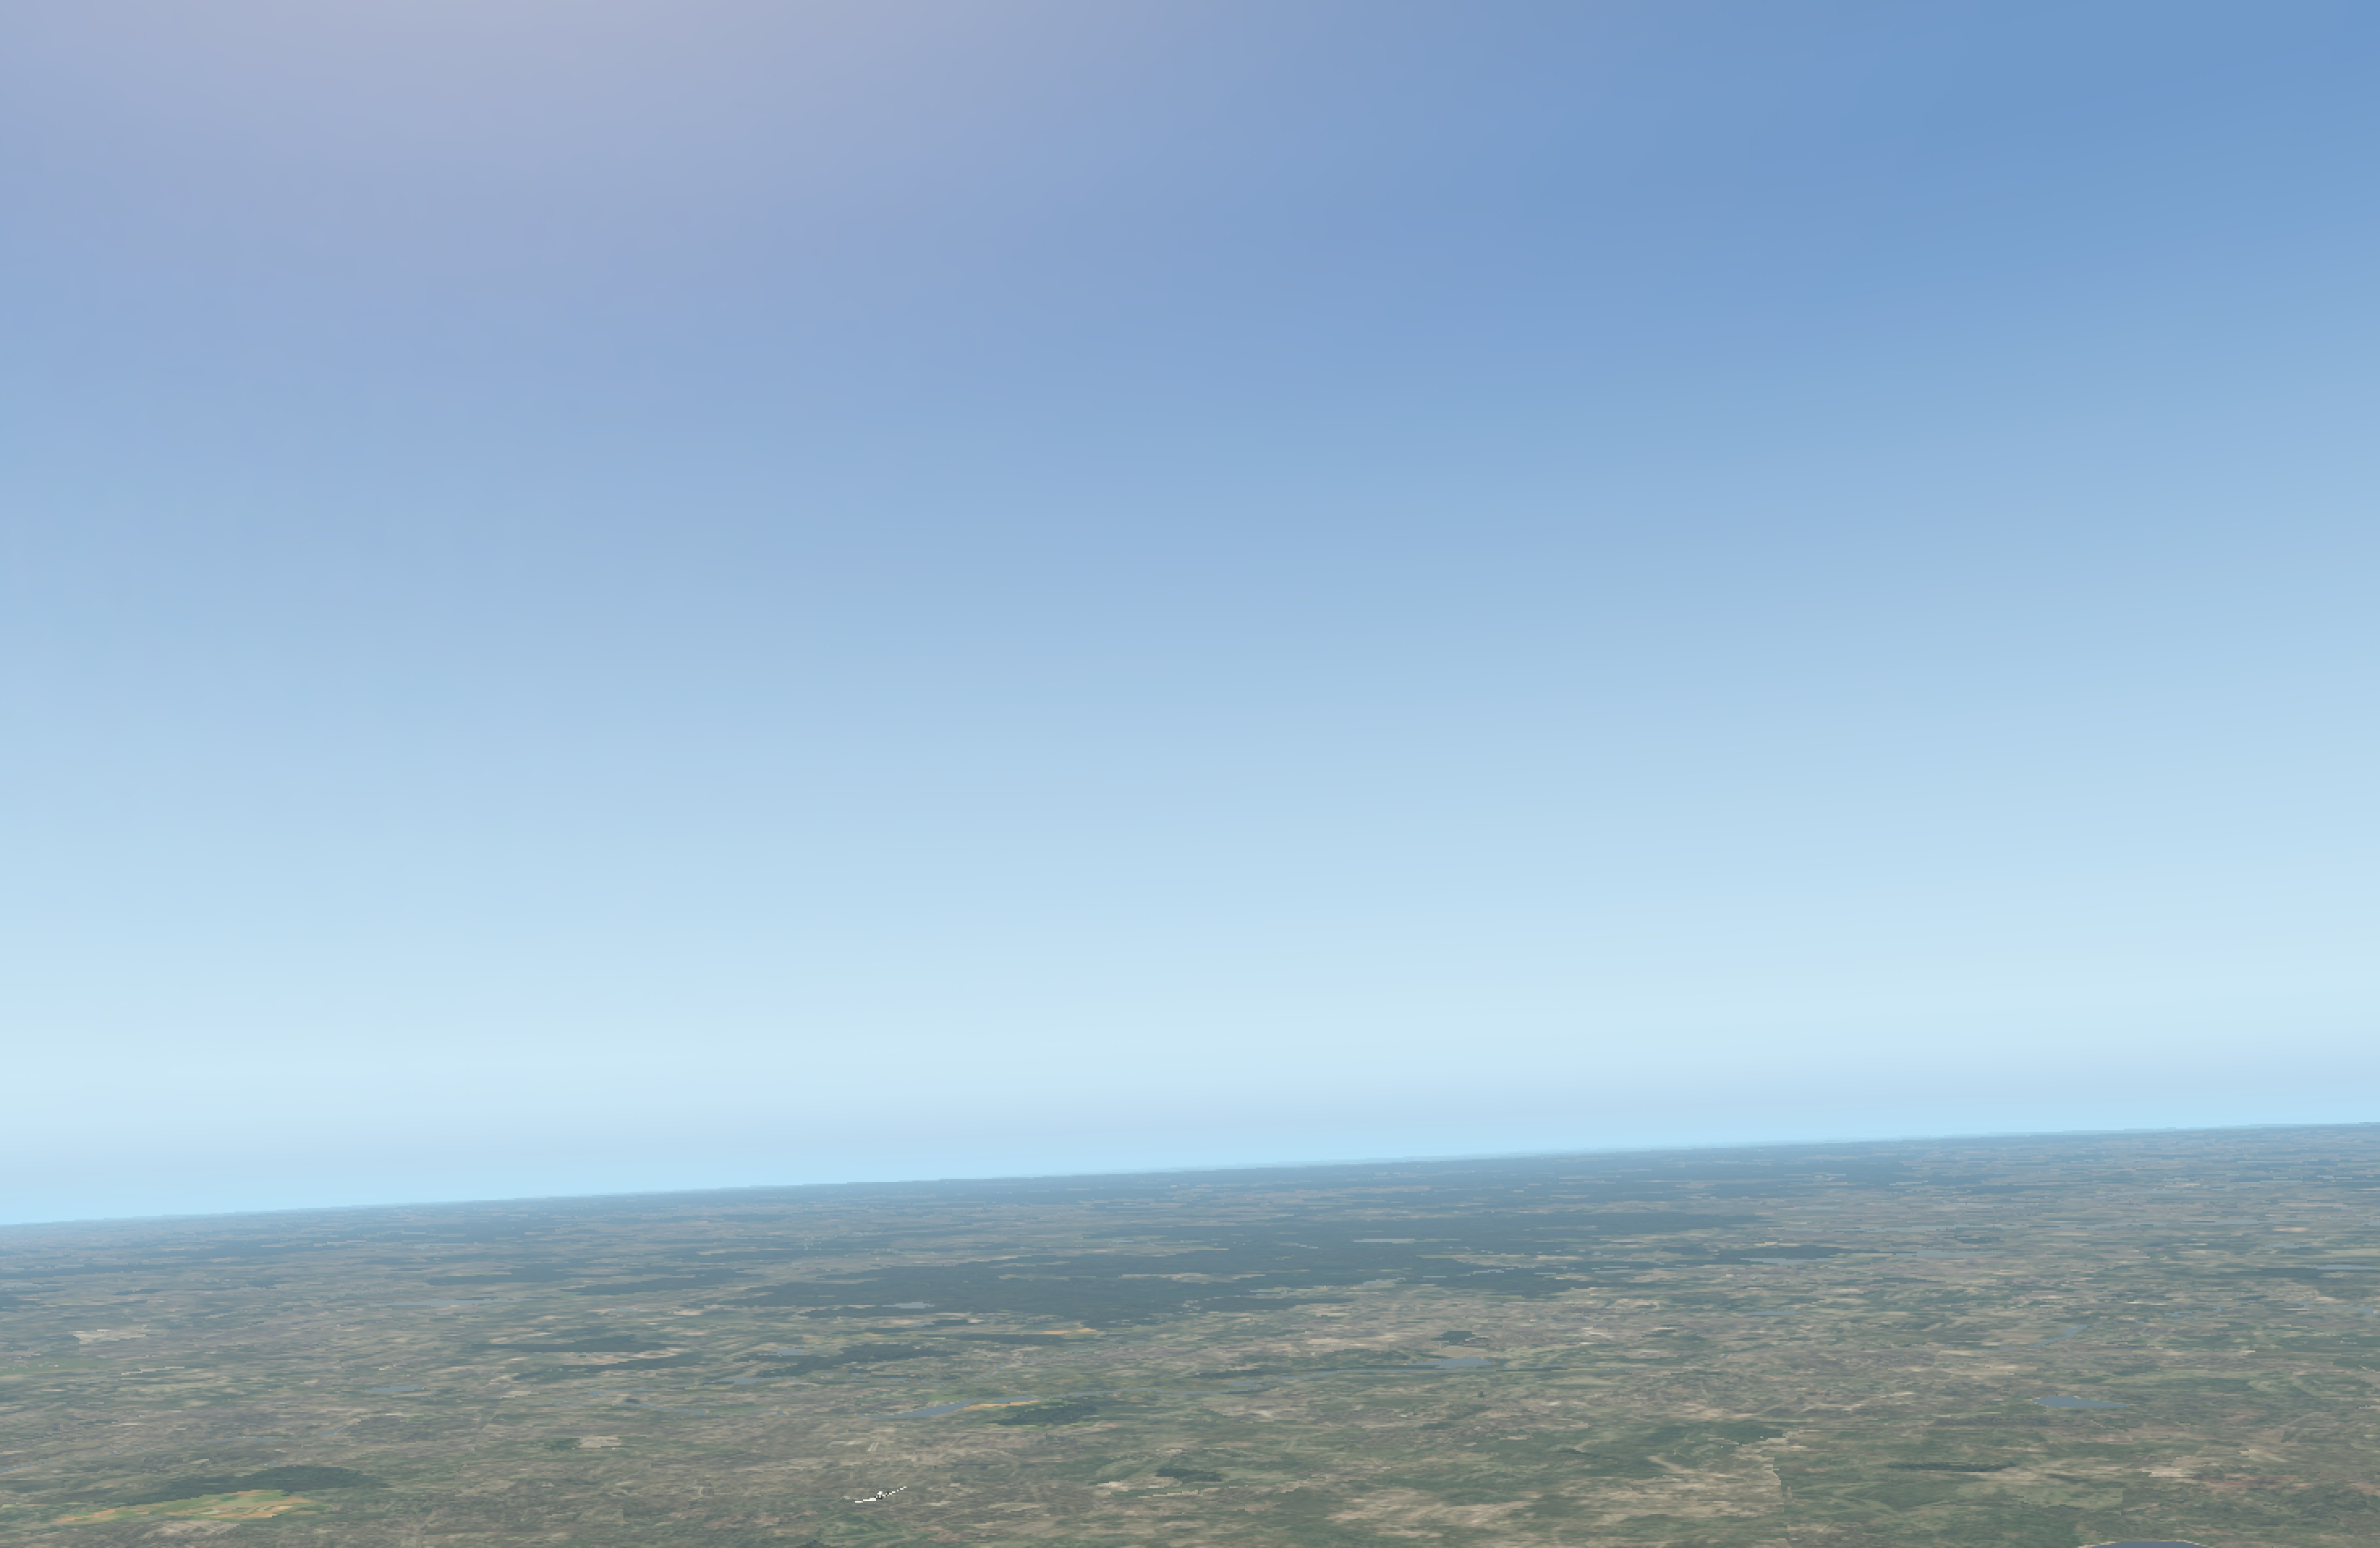aircraft: (855, 1487, 907, 1508)
